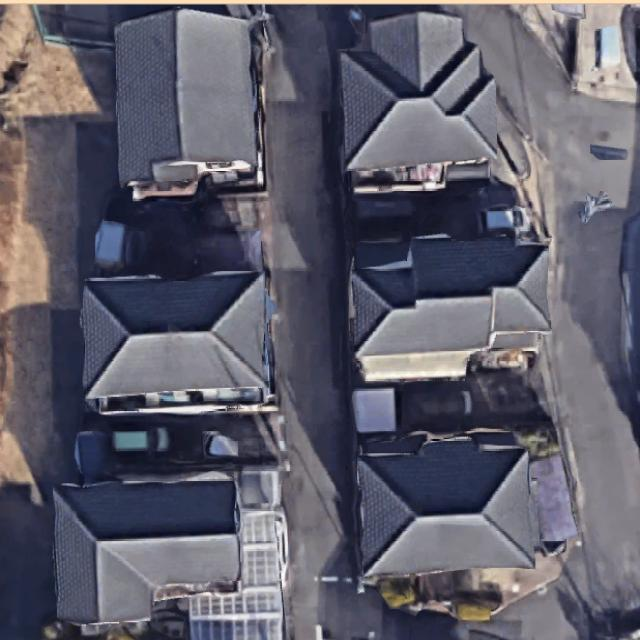Batiment: (351, 233, 550, 382), (340, 11, 498, 192), (115, 9, 259, 199), (55, 477, 240, 622), (82, 271, 268, 411), (358, 429, 533, 576)
